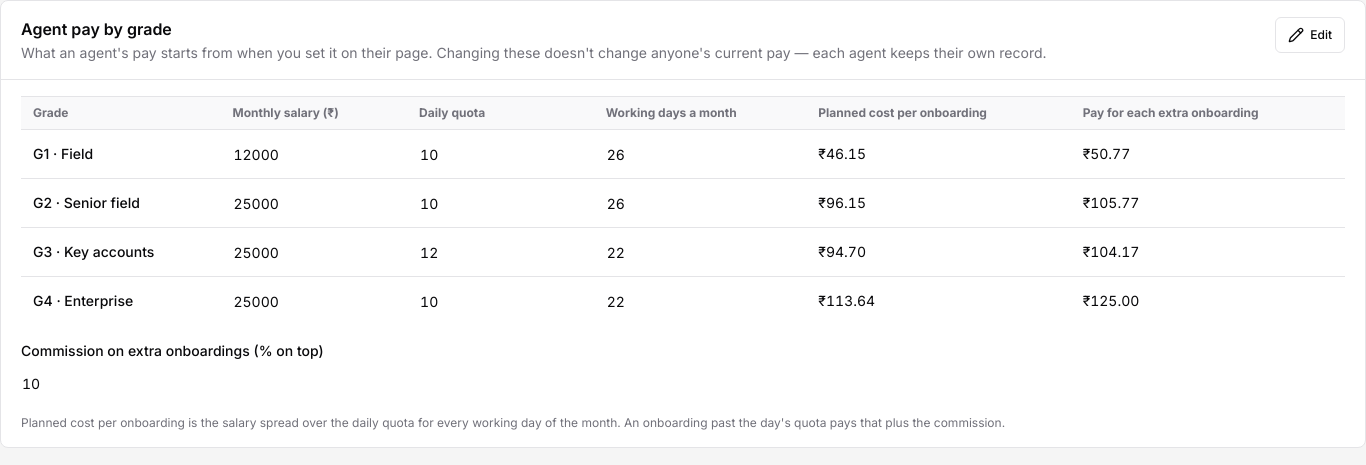
Test case: Agent pay by grade › refuses G1 · Field daily quota = 0 on the line under the table
The image size is (1366, 465).
Click the button "Edit" at point(1310, 35), box [1275, 17, 1345, 53]
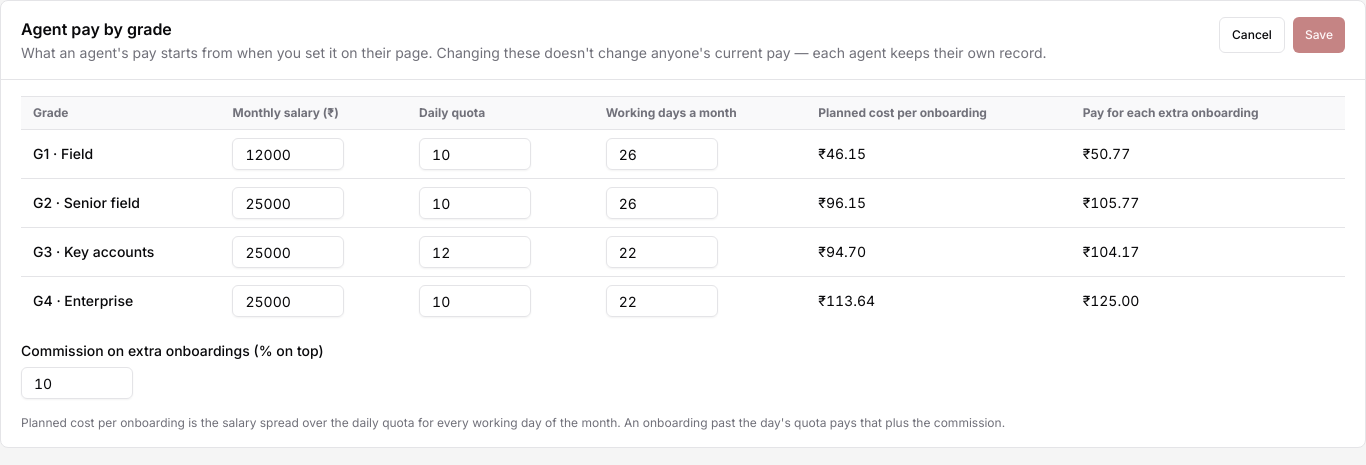
Replace the text in the field named "G1 · Field daily quota" with "0" at point(475, 154), box [419, 138, 531, 170]
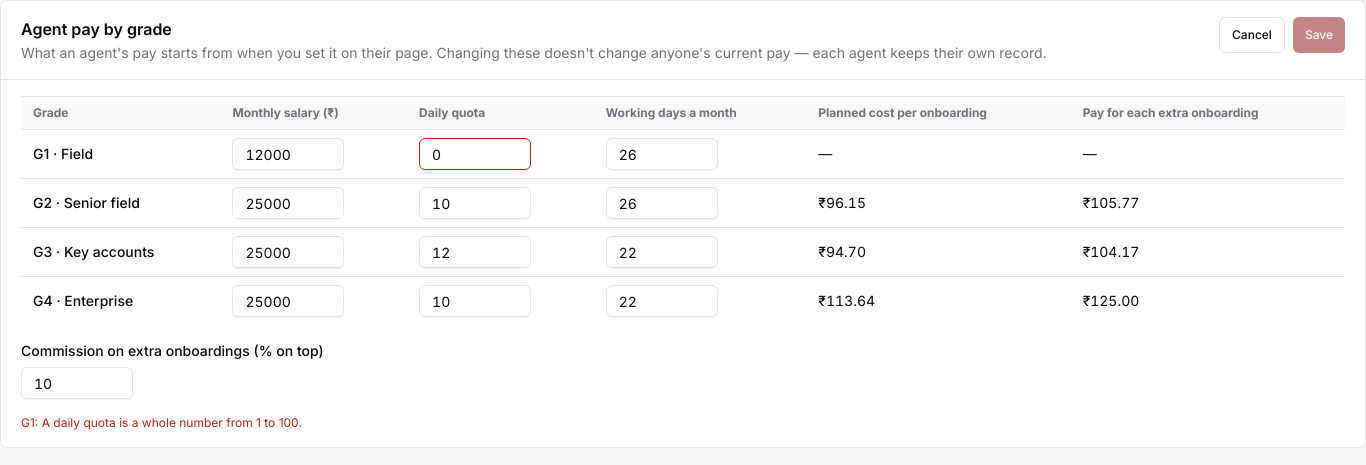
Now the button "Save" is disabled, box [1293, 17, 1345, 53]
Now the text with test id "agent-pay-line" reads "G1: A daily quota is a whole number from 1 to 100.", box [21, 415, 302, 430]
